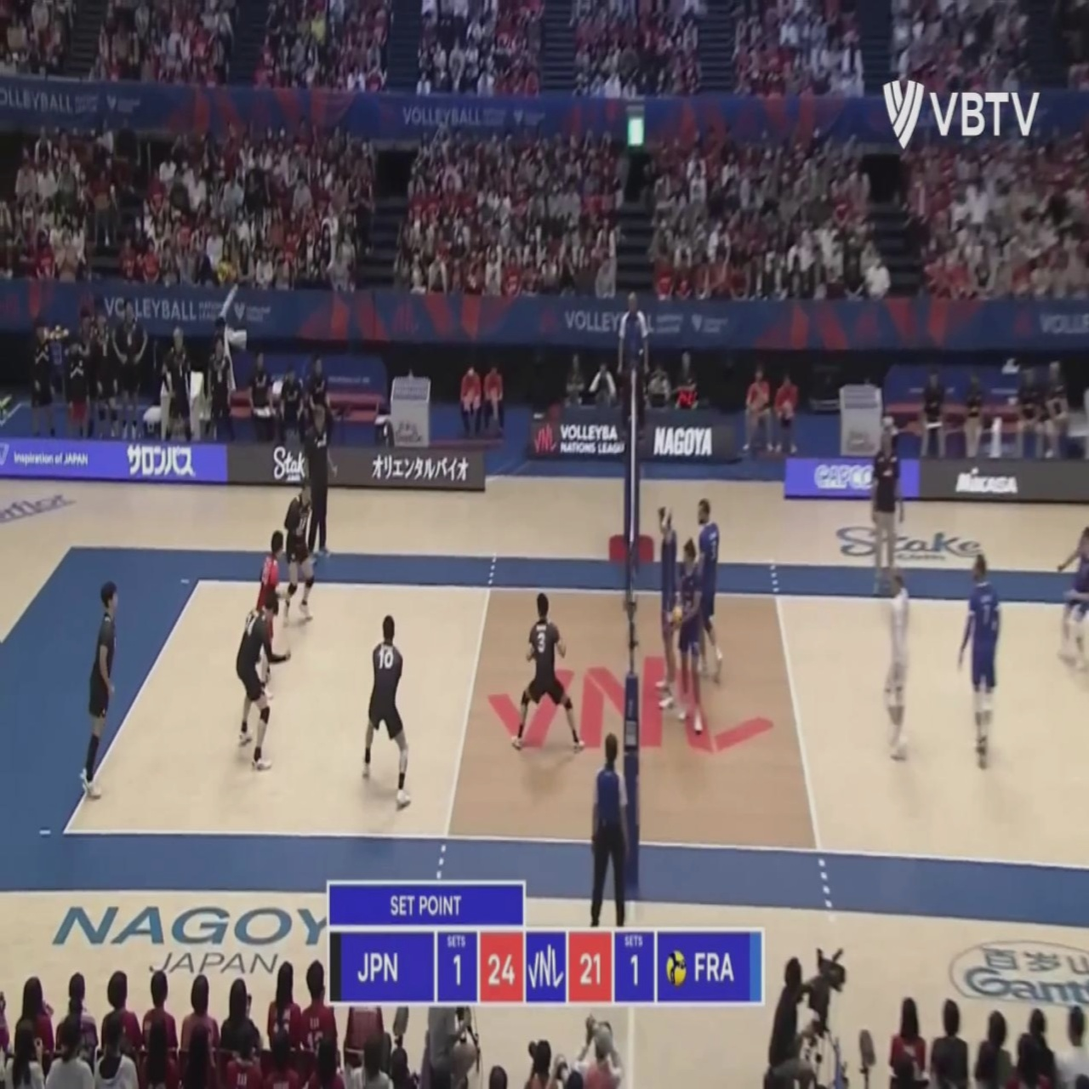ball: (667, 603, 683, 631)
